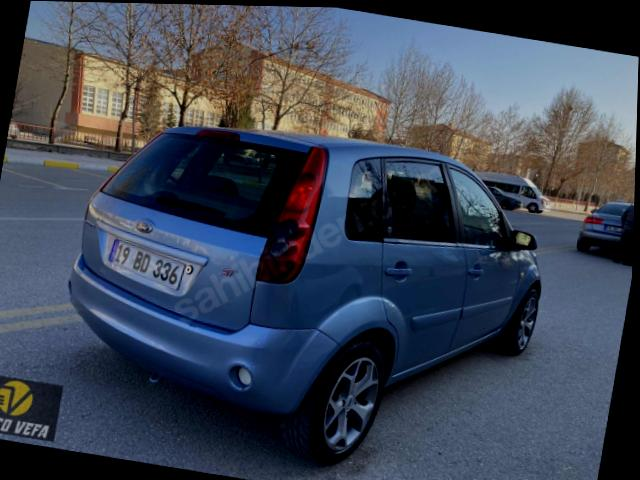plaka: (107, 241, 185, 289)
